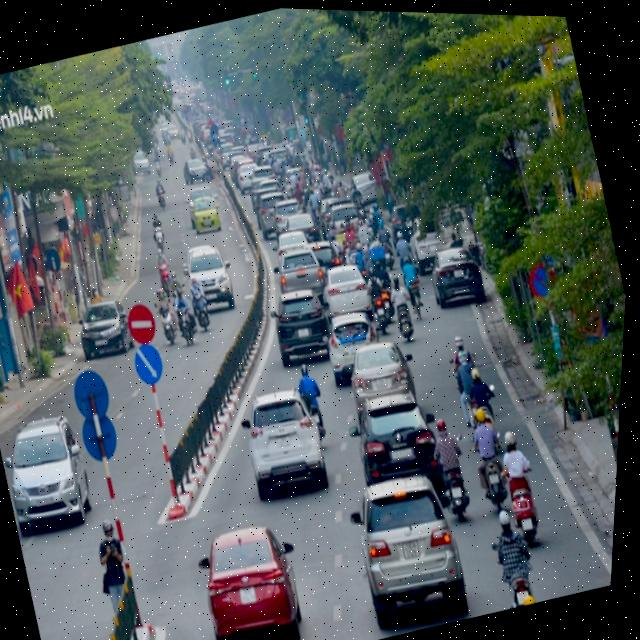car: (334, 464, 478, 636), (187, 515, 321, 640), (335, 382, 456, 519), (0, 408, 105, 546), (231, 380, 336, 508), (338, 331, 427, 422), (261, 282, 341, 368), (68, 292, 140, 364), (317, 308, 383, 383), (424, 242, 488, 314), (179, 240, 240, 315), (314, 257, 377, 324), (268, 240, 328, 303), (185, 191, 225, 238)
motorcycle: (470, 450, 514, 518), (503, 484, 548, 550), (436, 462, 477, 524), (499, 564, 540, 609), (152, 303, 185, 352), (388, 298, 421, 344), (169, 303, 202, 348), (186, 288, 214, 330), (147, 221, 172, 254)
